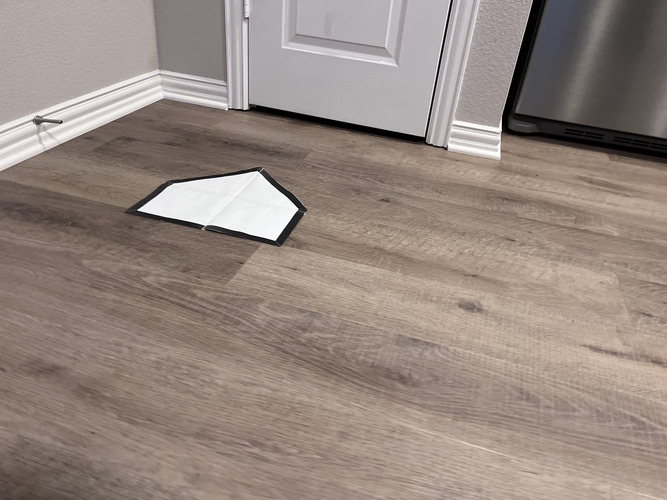homeplate: (122, 168, 307, 247)
